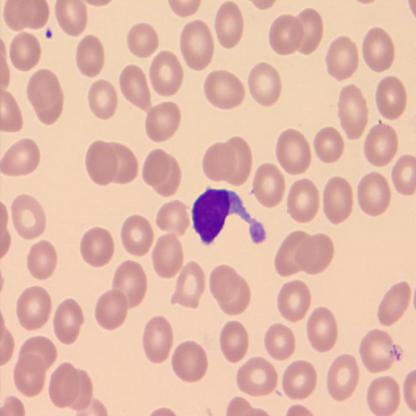Lymphocyte: (192, 186, 267, 245)
